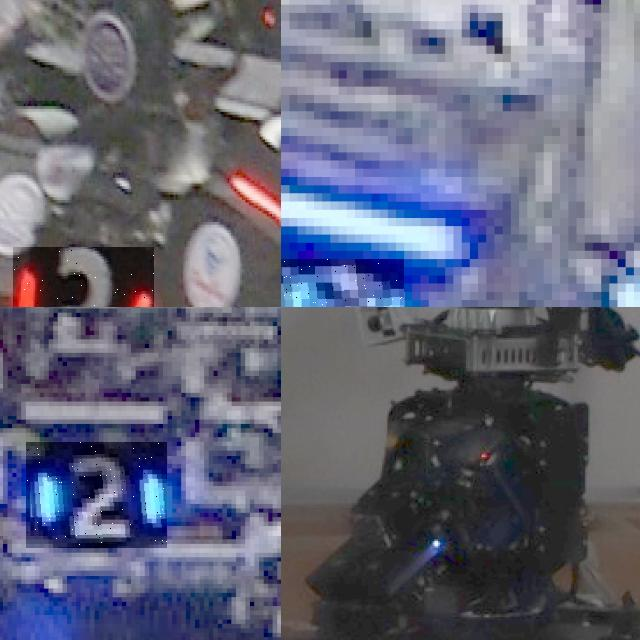B2: (26, 442, 167, 548), (281, 259, 404, 307)
R3: (13, 247, 154, 307)
